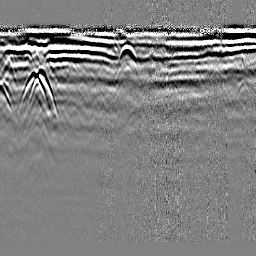cavity: (119, 42, 138, 62)
